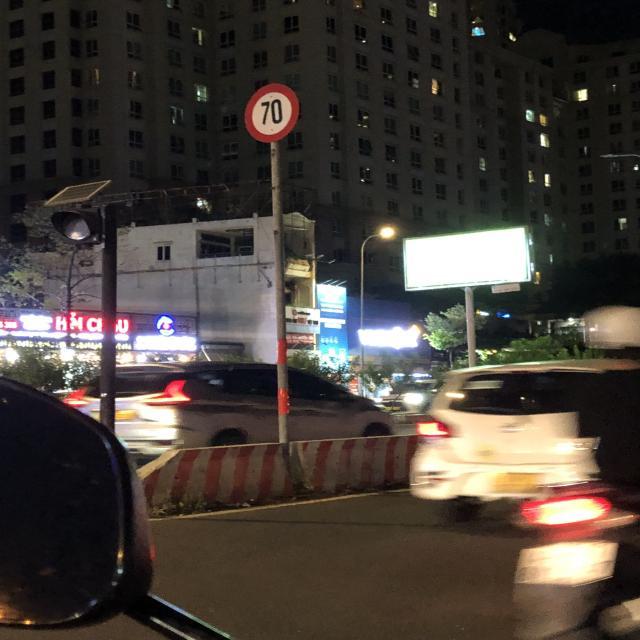Bien bao toc do toi da cho phep: (239, 81, 303, 141)
